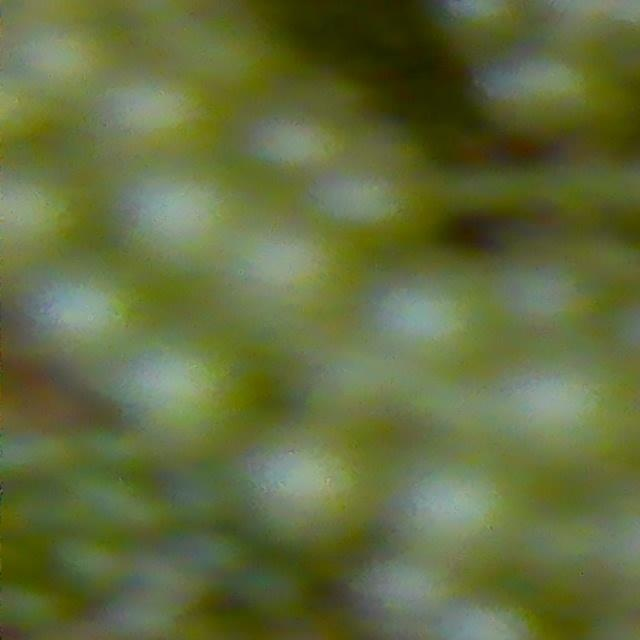SeaGrape: (482, 353, 637, 474), (118, 322, 251, 463), (118, 153, 246, 289), (245, 441, 374, 566), (362, 262, 491, 379), (233, 212, 350, 333), (399, 461, 511, 574), (495, 237, 616, 341), (479, 43, 606, 125), (328, 162, 436, 258), (20, 283, 133, 371), (28, 16, 120, 124), (302, 329, 404, 425), (249, 82, 349, 170), (533, 495, 616, 599), (95, 74, 203, 153), (1, 159, 87, 253), (365, 553, 451, 629), (442, 0, 521, 64)
